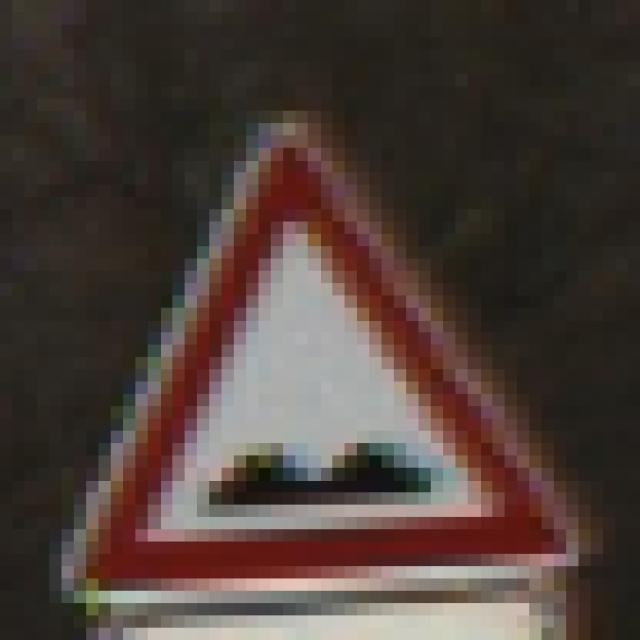Uneven Road: (45, 92, 586, 597)
